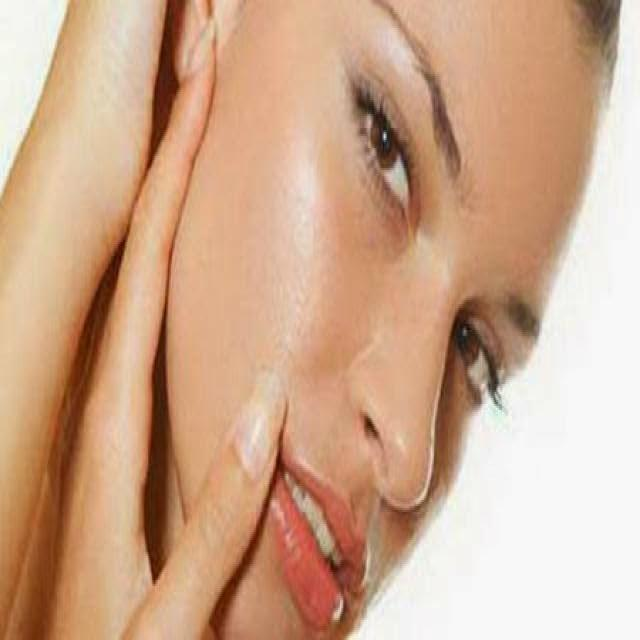Oily-Skin: (282, 123, 338, 398)
